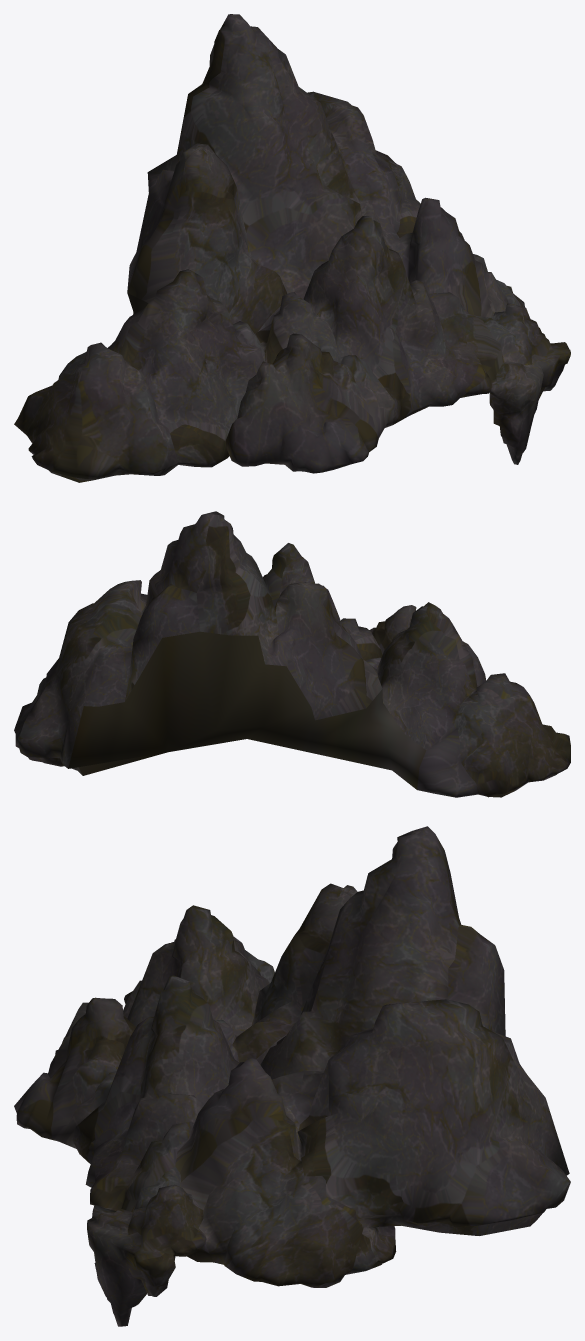
The model's file is Stone01.fbx.
3 views of the same model, one above another, from view 1: azimuth 30°, elevation 25°; view 2: azimuth 150°, elevation 25°; view 3: azimuth 270°, elevation 25° (orthographic). The views are drawn at different scales.
Visible parts, largest first — view 1: SM_Templarl_Stone01_LOD0; view 2: SM_Templarl_Stone01_LOD0; view 3: SM_Templarl_Stone01_LOD0.
Boxes of the visible parts, box(x1,y1,x2,y2) form: SM_Templarl_Stone01_LOD0: box(14, 14, 570, 482); SM_Templarl_Stone01_LOD0: box(14, 511, 570, 797); SM_Templarl_Stone01_LOD0: box(14, 826, 570, 1326).
Size of the model in its own units: 53118 by 37121 by 44498.
